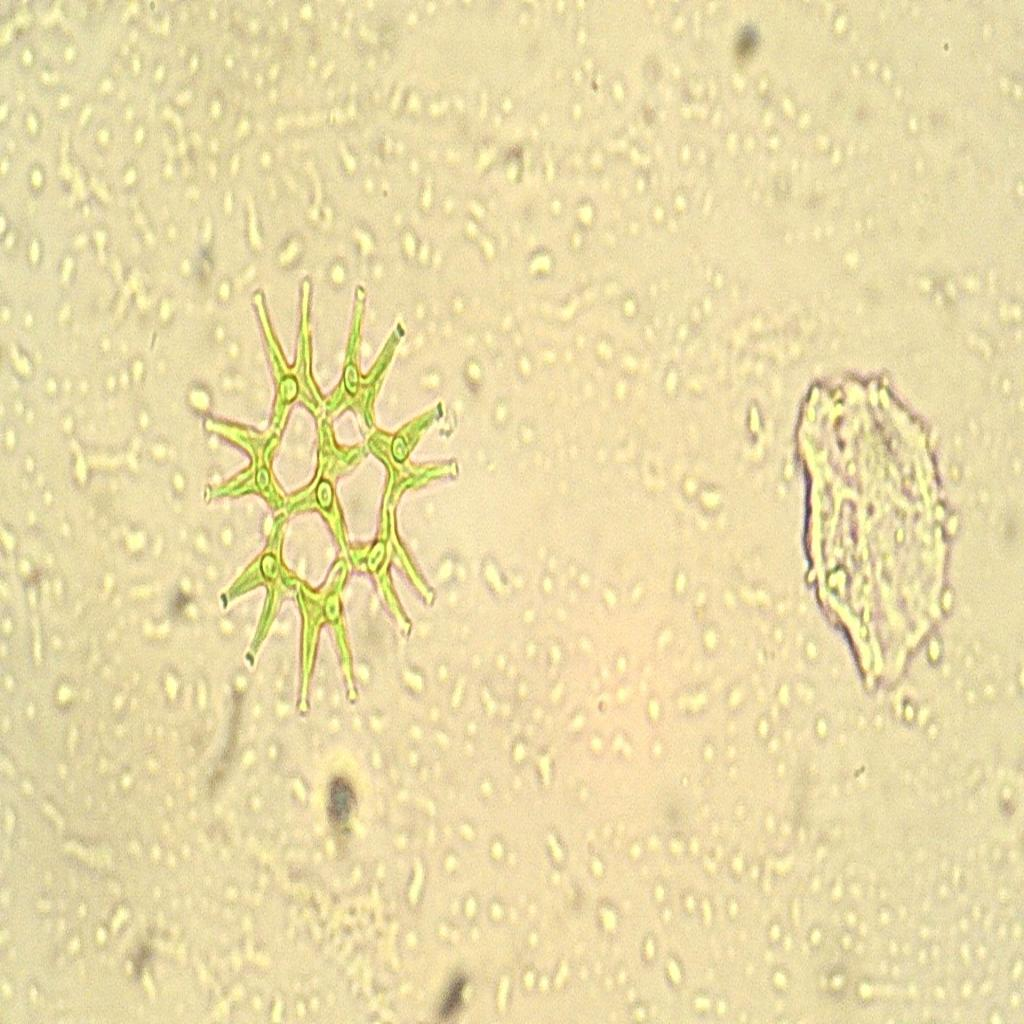Pediastrum_CTH: (186, 257, 476, 724)
